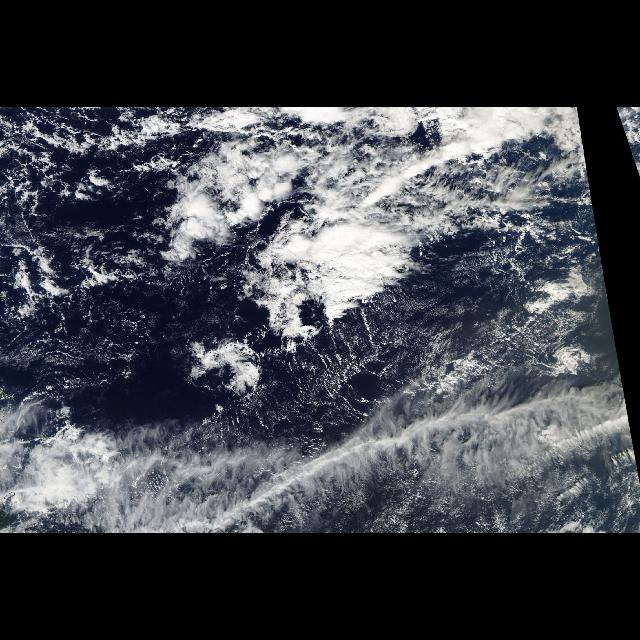Fish: (6, 359, 640, 533)
Gravel: (1, 108, 192, 402)
Sugar: (0, 304, 262, 394)
